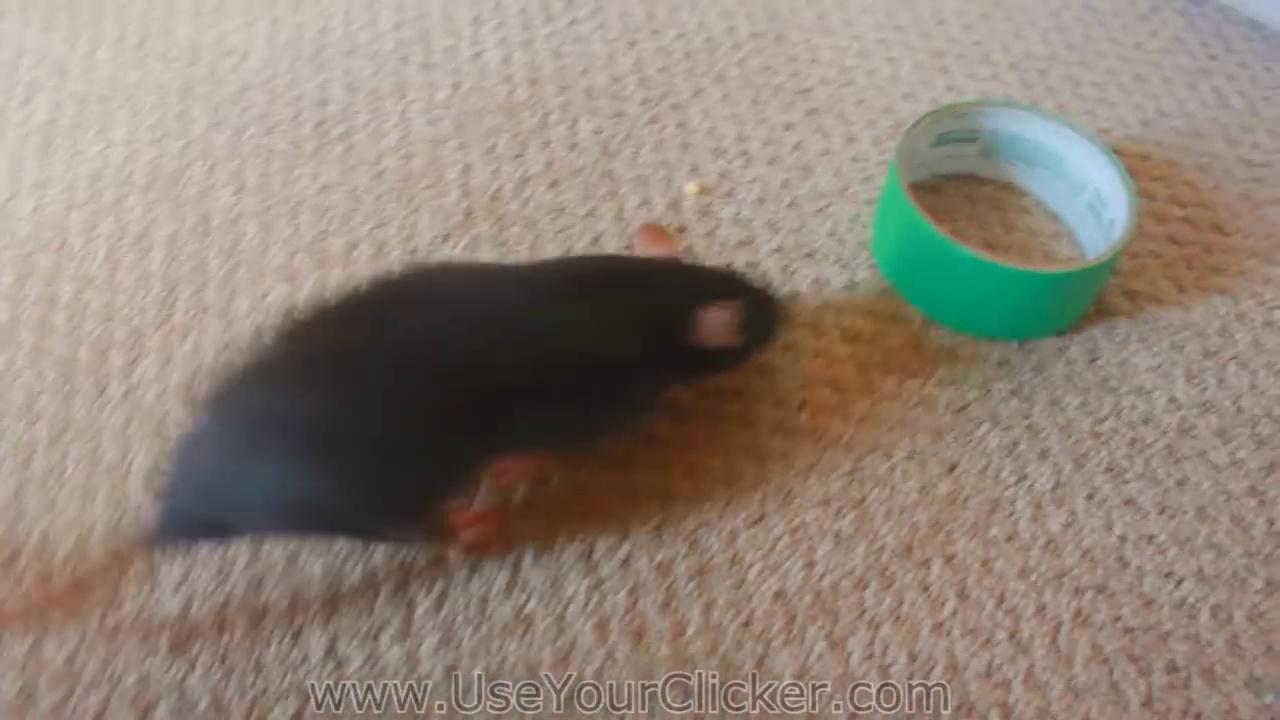rat: (5, 218, 785, 636)
